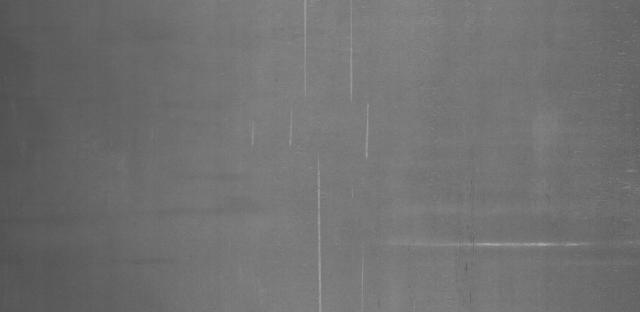crease: (391, 231, 606, 256), (311, 129, 338, 312)
